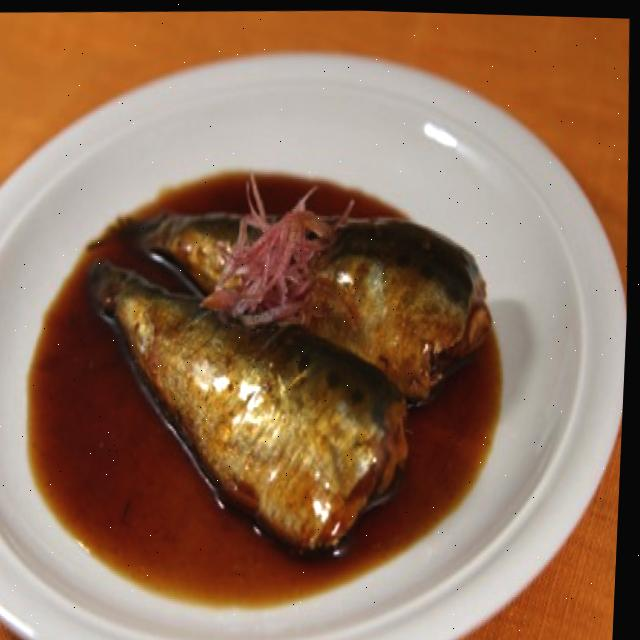熟制海鲜: (47, 129, 565, 602)
